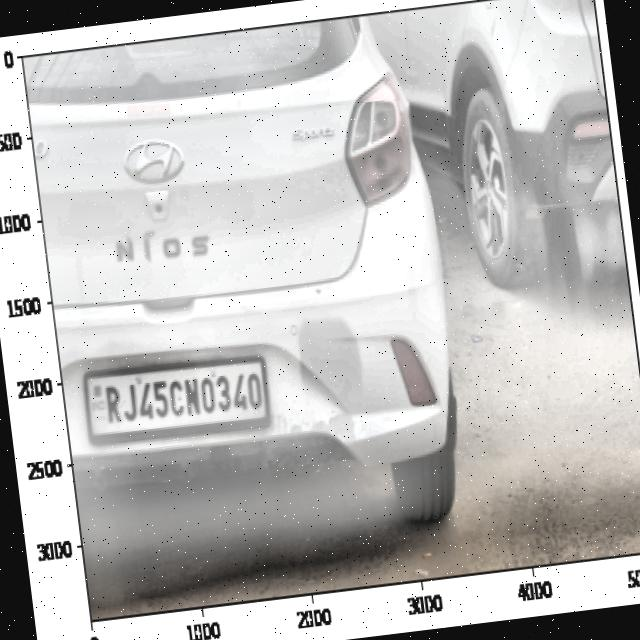license_plate: (95, 355, 266, 440)
